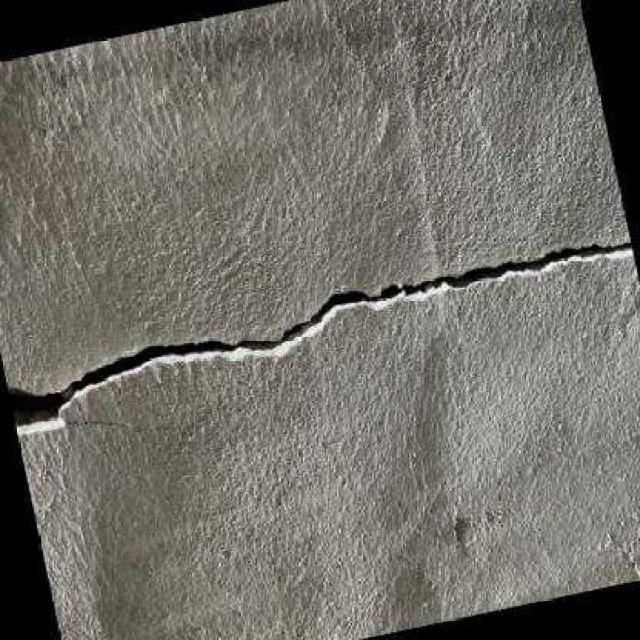D00: (7, 239, 632, 423)
